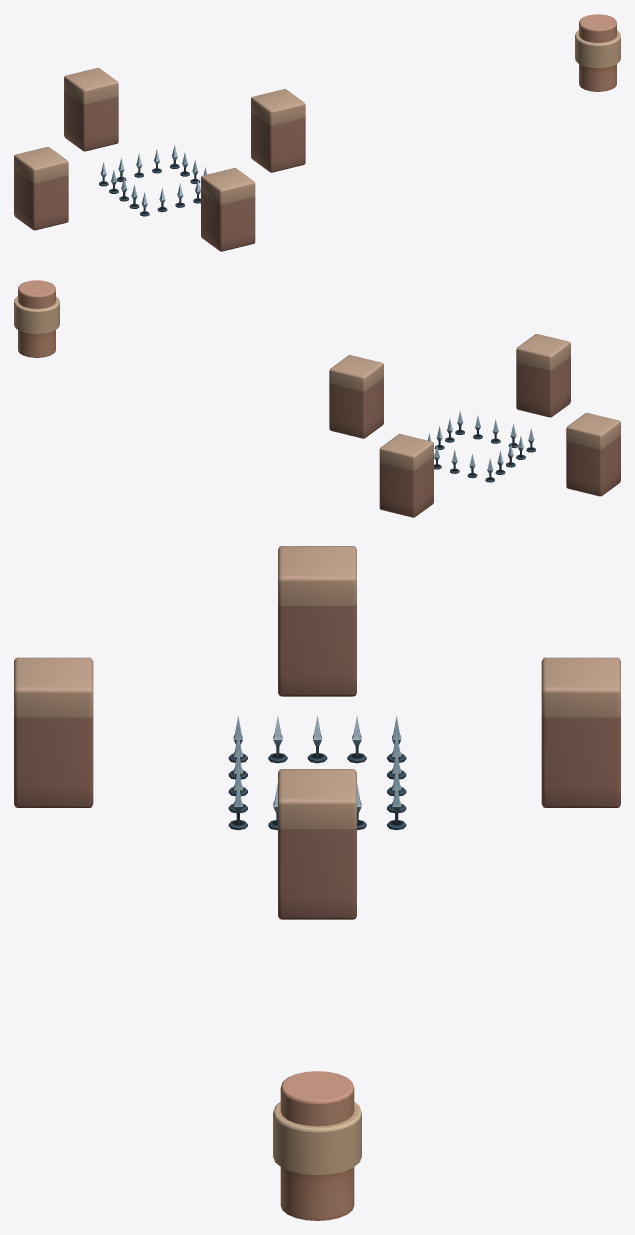
File: Props.fbx
3 views of the same model, one above another, from view 1: azimuth 30°, elevation 25°; view 2: azimuth 150°, elevation 25°; view 3: azimuth 270°, elevation 25° (orthographic). The views are drawn at different scales.
Visible parts, largest first — view 1: Box03, Box03 (2), Box03 (3), Box03 (1), Cylinder-2; view 2: Box03, Box03 (2), Box03 (3), Box03 (1), Cylinder-2; view 3: Box03 (2), Box03 (3), Box03, Box03 (1), Cylinder-2.
Boxes of the visible parts, x1,y1,x2,y2 form: Box03: (14, 147, 68, 230); Box03 (2): (201, 168, 255, 251); Box03 (3): (64, 68, 118, 151); Box03 (1): (251, 89, 305, 172); Cylinder-2: (575, 14, 620, 91); Box03: (566, 413, 620, 496); Box03 (2): (516, 334, 570, 417); Box03 (3): (379, 434, 433, 517); Box03 (1): (329, 355, 383, 438); Cylinder-2: (14, 280, 59, 357); Box03 (2): (14, 657, 93, 807); Box03 (3): (541, 657, 620, 807); Box03: (278, 546, 356, 696); Box03 (1): (278, 769, 356, 919); Cylinder-2: (273, 1071, 361, 1220).
Size of the model in its own units: 50.19 by 5.01 by 23.
3 materials, 3 textured.
